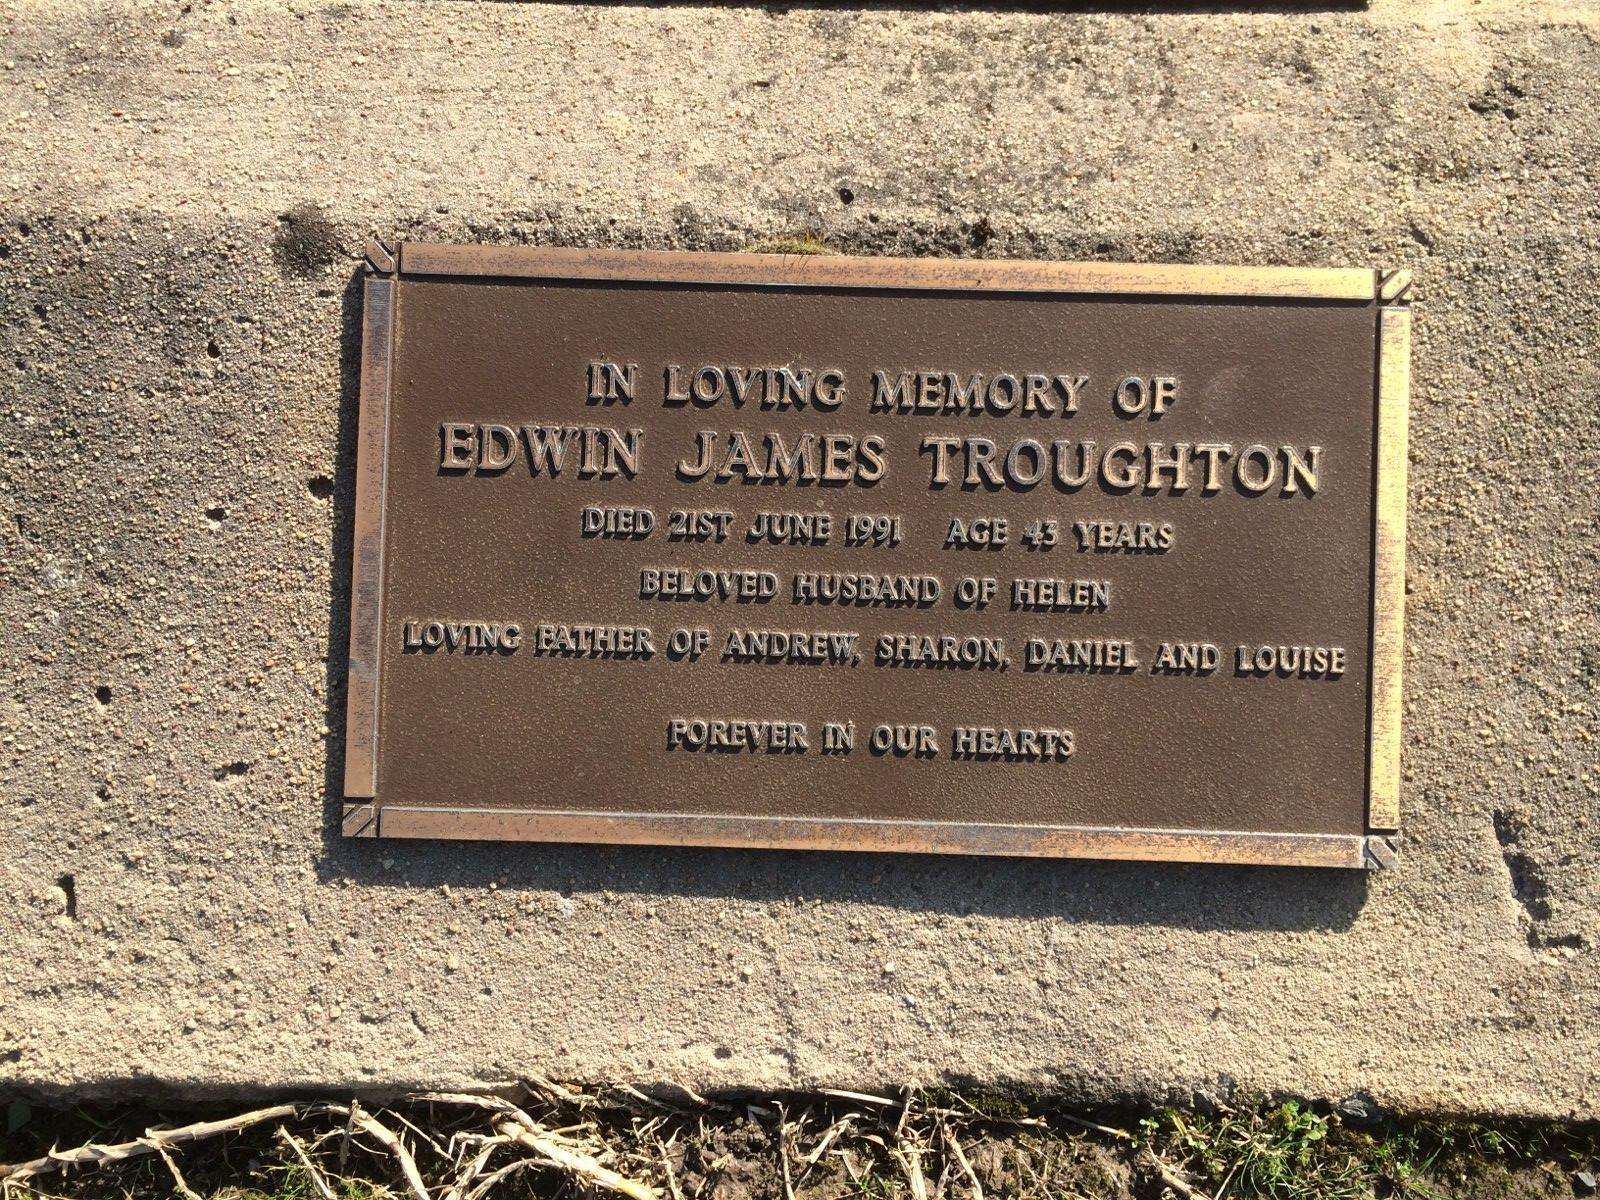flat: (329, 234, 1417, 881)
